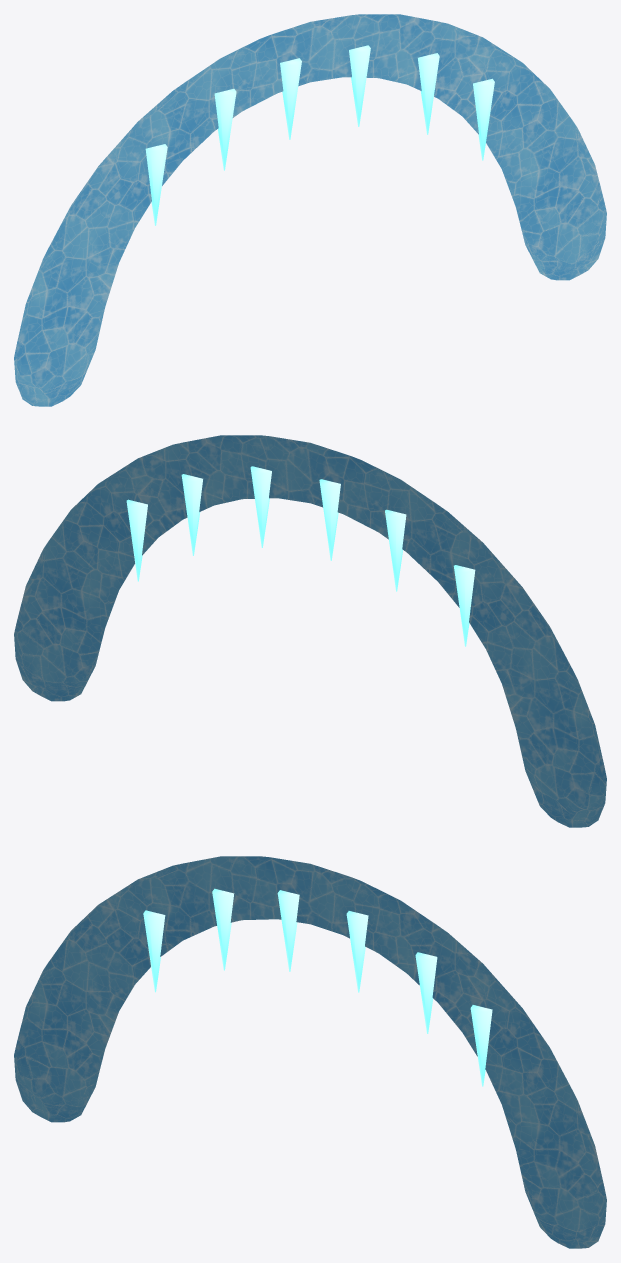
Rendered from prop_ice_arch.glb.
3 renders of one model, top to bottom at view 1: azimuth 30°, elevation 25°; view 2: azimuth 150°, elevation 25°; view 3: azimuth 330°, elevation 25°, orthographic.
Parts seen in each view (by area): view 1: GlacialArch; view 2: GlacialArch; view 3: GlacialArch.
Part boxes in pixels (x1,y1,x2,y2): GlacialArch: (14,14,606,406); GlacialArch: (14,435,606,827); GlacialArch: (14,856,606,1248).
Bounding box in the file's own units: 34.43 × 17.85 × 1.18.
2 materials, 1 textured.
